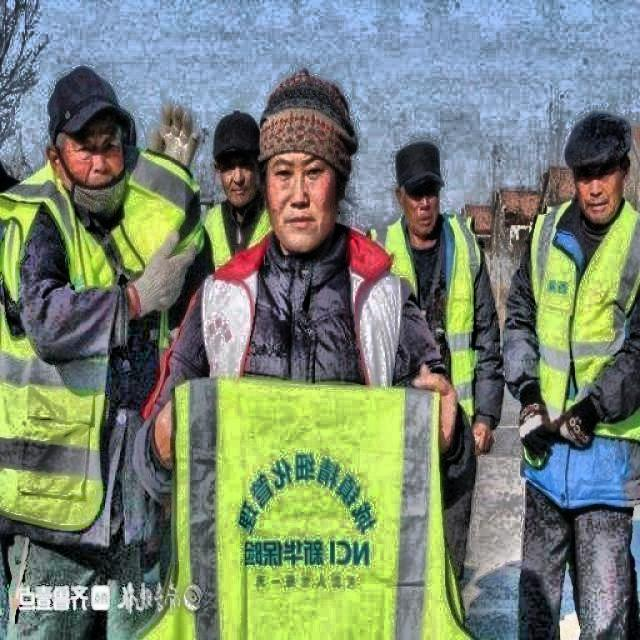safety_jacket: (6, 186, 152, 533), (533, 216, 640, 430), (388, 226, 481, 394)
